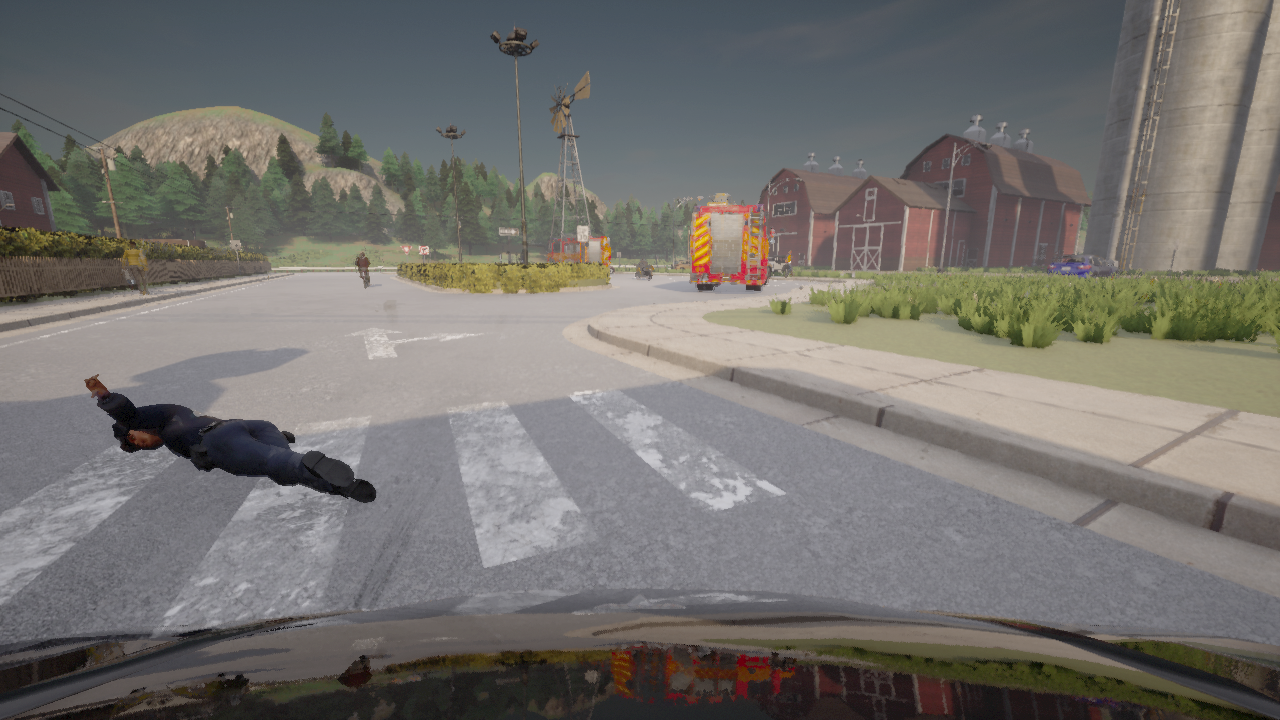cyclist: (0, 588, 1279, 719), (690, 194, 773, 291), (544, 231, 609, 267), (1046, 254, 1117, 281), (767, 255, 787, 273), (634, 263, 652, 279), (671, 260, 690, 269), (361, 272, 368, 287), (767, 263, 773, 278), (1039, 267, 1044, 274), (610, 265, 614, 273)
pedestrian: (83, 373, 376, 503), (122, 241, 149, 295), (119, 262, 134, 294), (785, 251, 795, 277)
